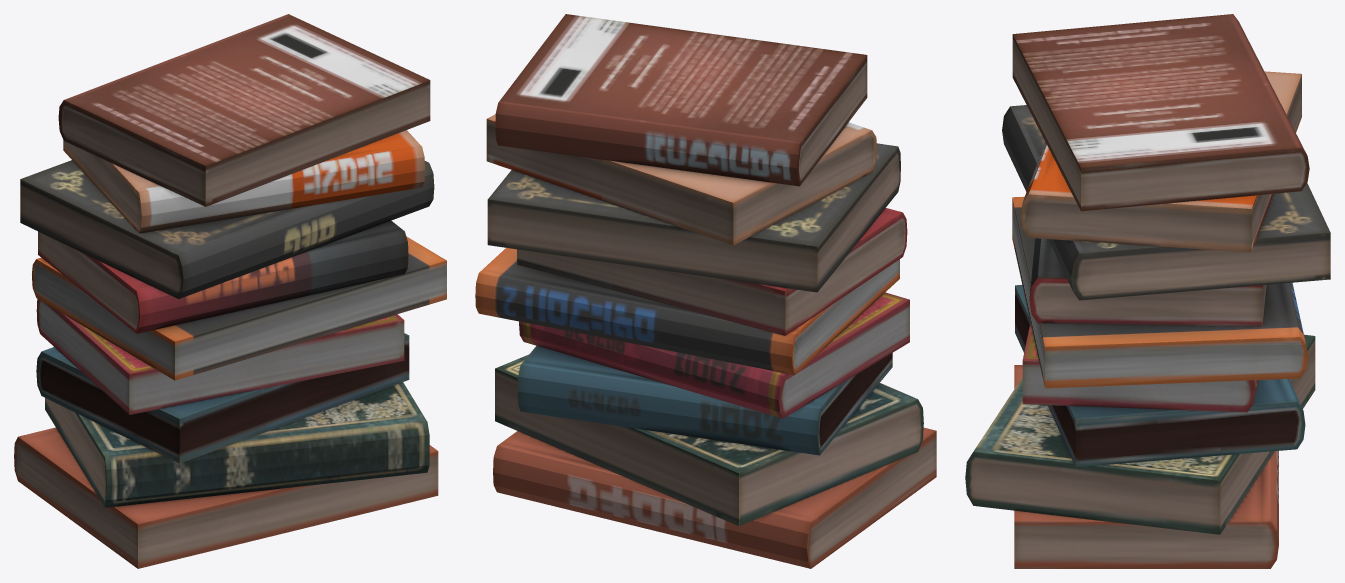
Rendered from P_Book_004_S1_M02.obj.
3 renders of one model, left to right at view 1: azimuth 30°, elevation 25°; view 2: azimuth 150°, elevation 25°; view 3: azimuth 270°, elevation 25°, orthographic. The views are drawn at different scales.
Bounding box in the file's own units: 0.6408 × 0.7064 × 0.5662.
1 material, 1 textured.
